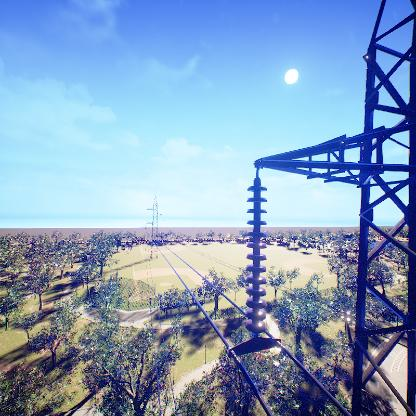insulator: (245, 183, 269, 336)
